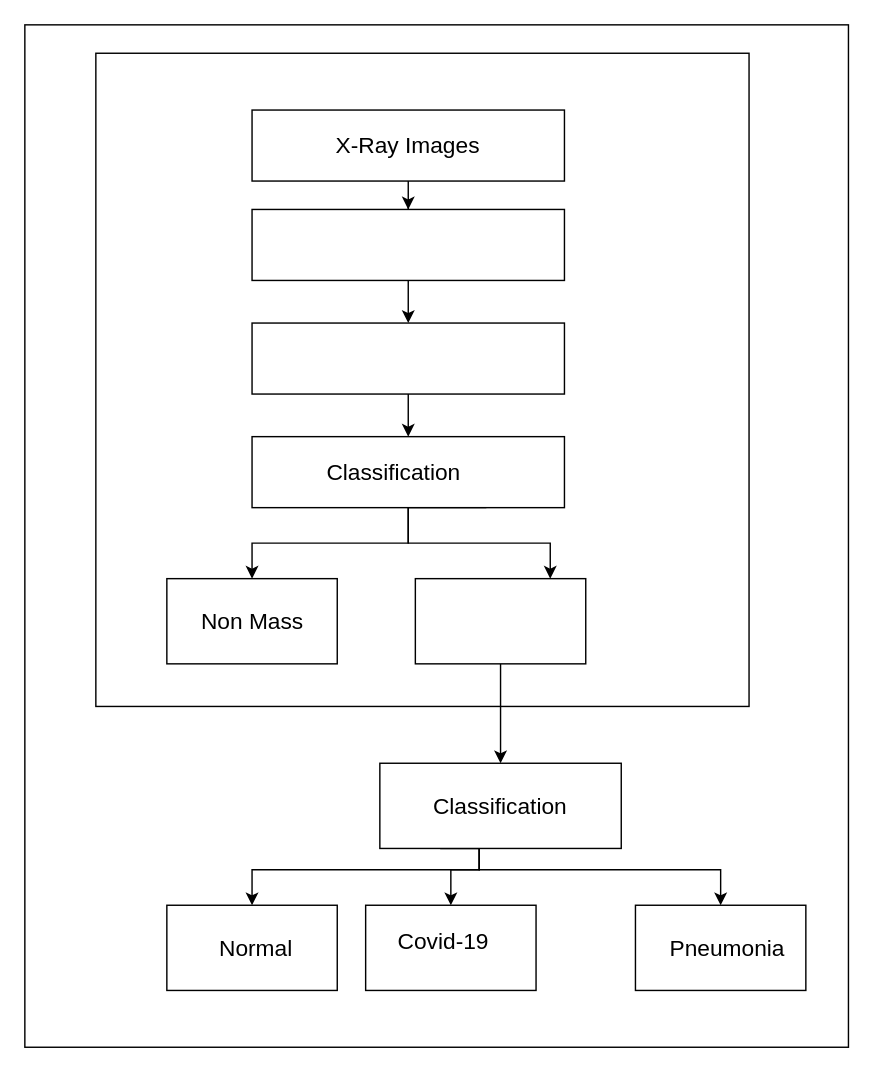
This 873x1072 diagram has some shape labels left out. Here are the shapes that lost their labels. From the top down, the centre of each, then its label:
At point 407,244: "Segmentation".
At point 407,358: "Feature Extraction".
At point 500,620: "Mass".
